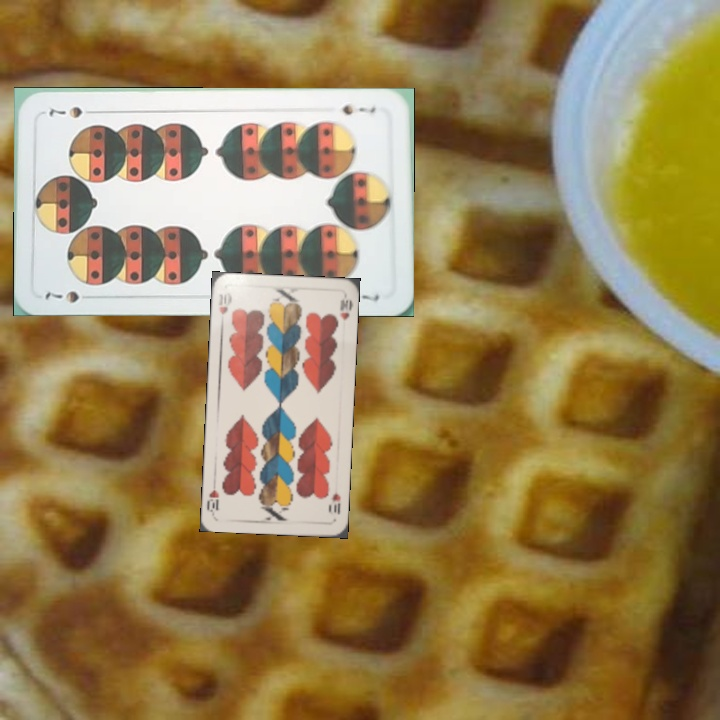H10: (214, 290, 230, 317), (328, 489, 343, 517)
S7: (40, 286, 81, 305), (339, 101, 378, 118)
